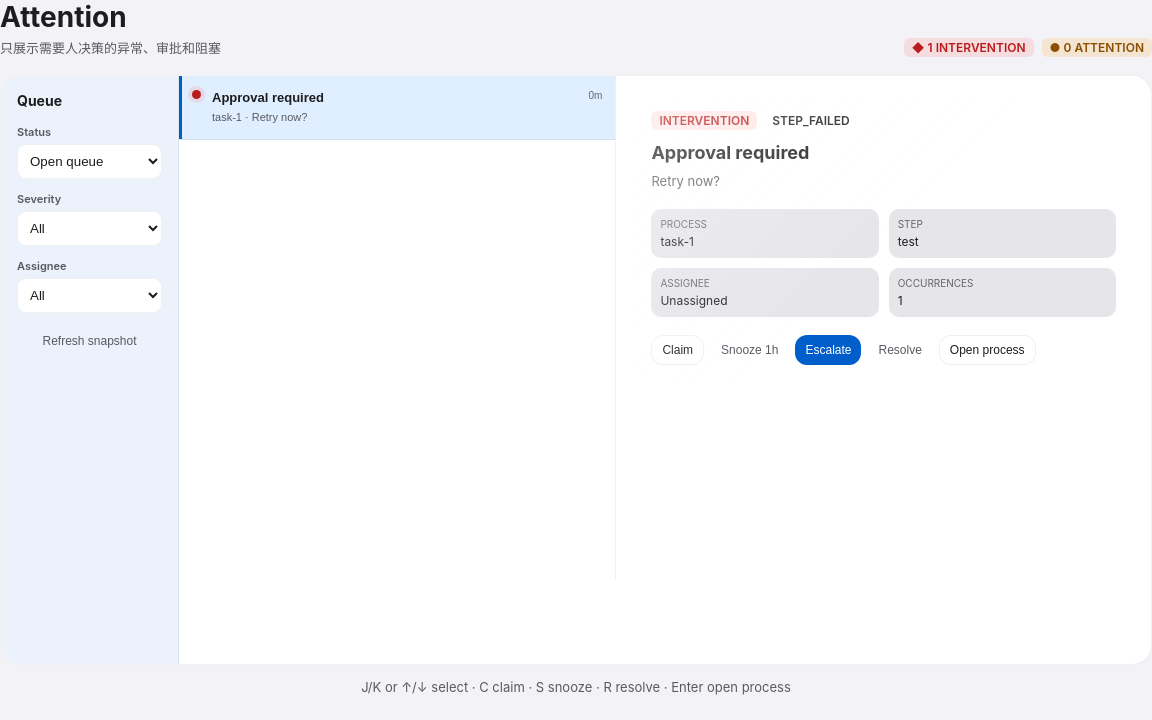
it: AttentionInbox component › preserves both mutation and unconfirmed-state errors when reconciliation also fails
Expected: the text "Retry now?" is shown, [651,173,720,189]
Click the button "Claim" at {"x": 678, "y": 350}, box [651,335,704,365]
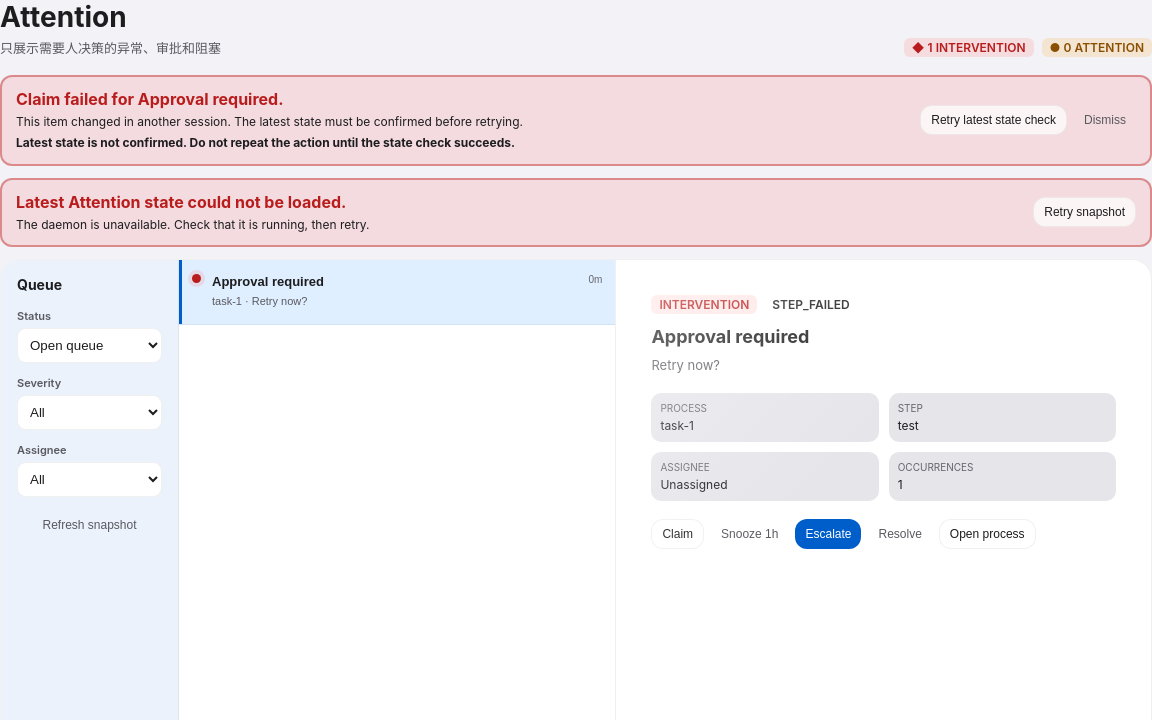
Expected: the text "Latest state is not confirmed" is shown, [16,135,515,150]
Expected: the text "Latest Attention state could not be loaded." is shown, [16,192,346,212]
Click the button "Retry latest state check" at {"x": 994, "y": 120}, box [920,105,1067,135]
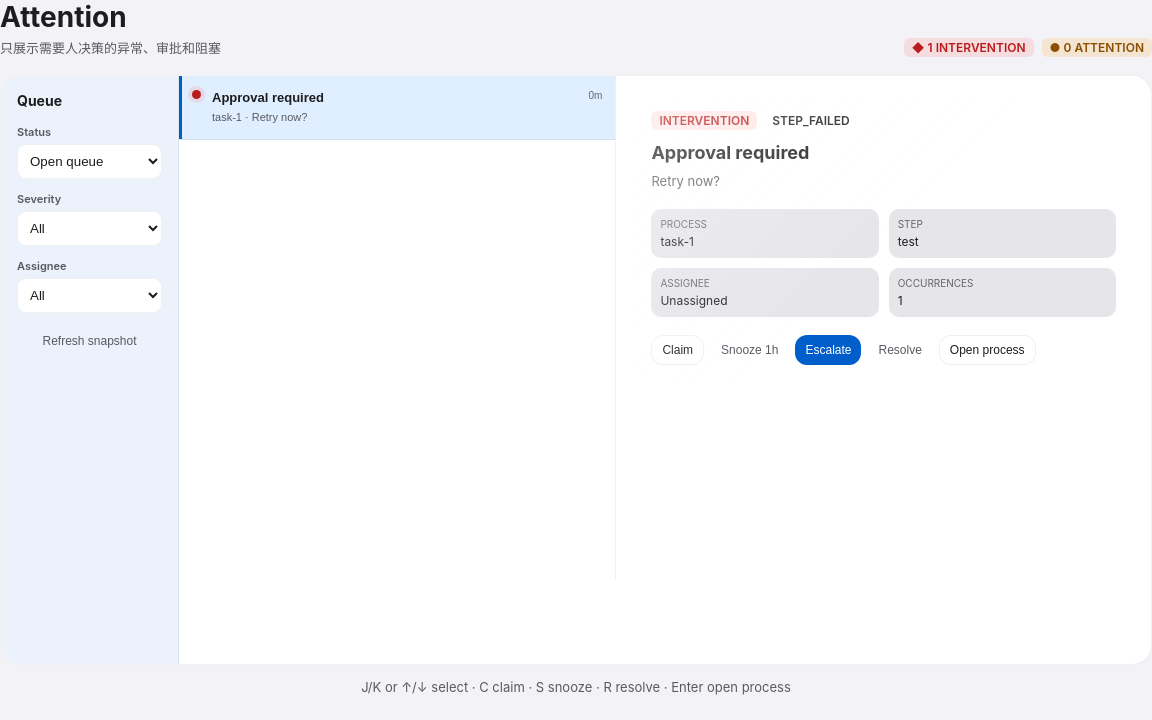
Expected: the text "Claim failed" is gone
Expected: the text "Latest Attention state could not be loaded." is gone
